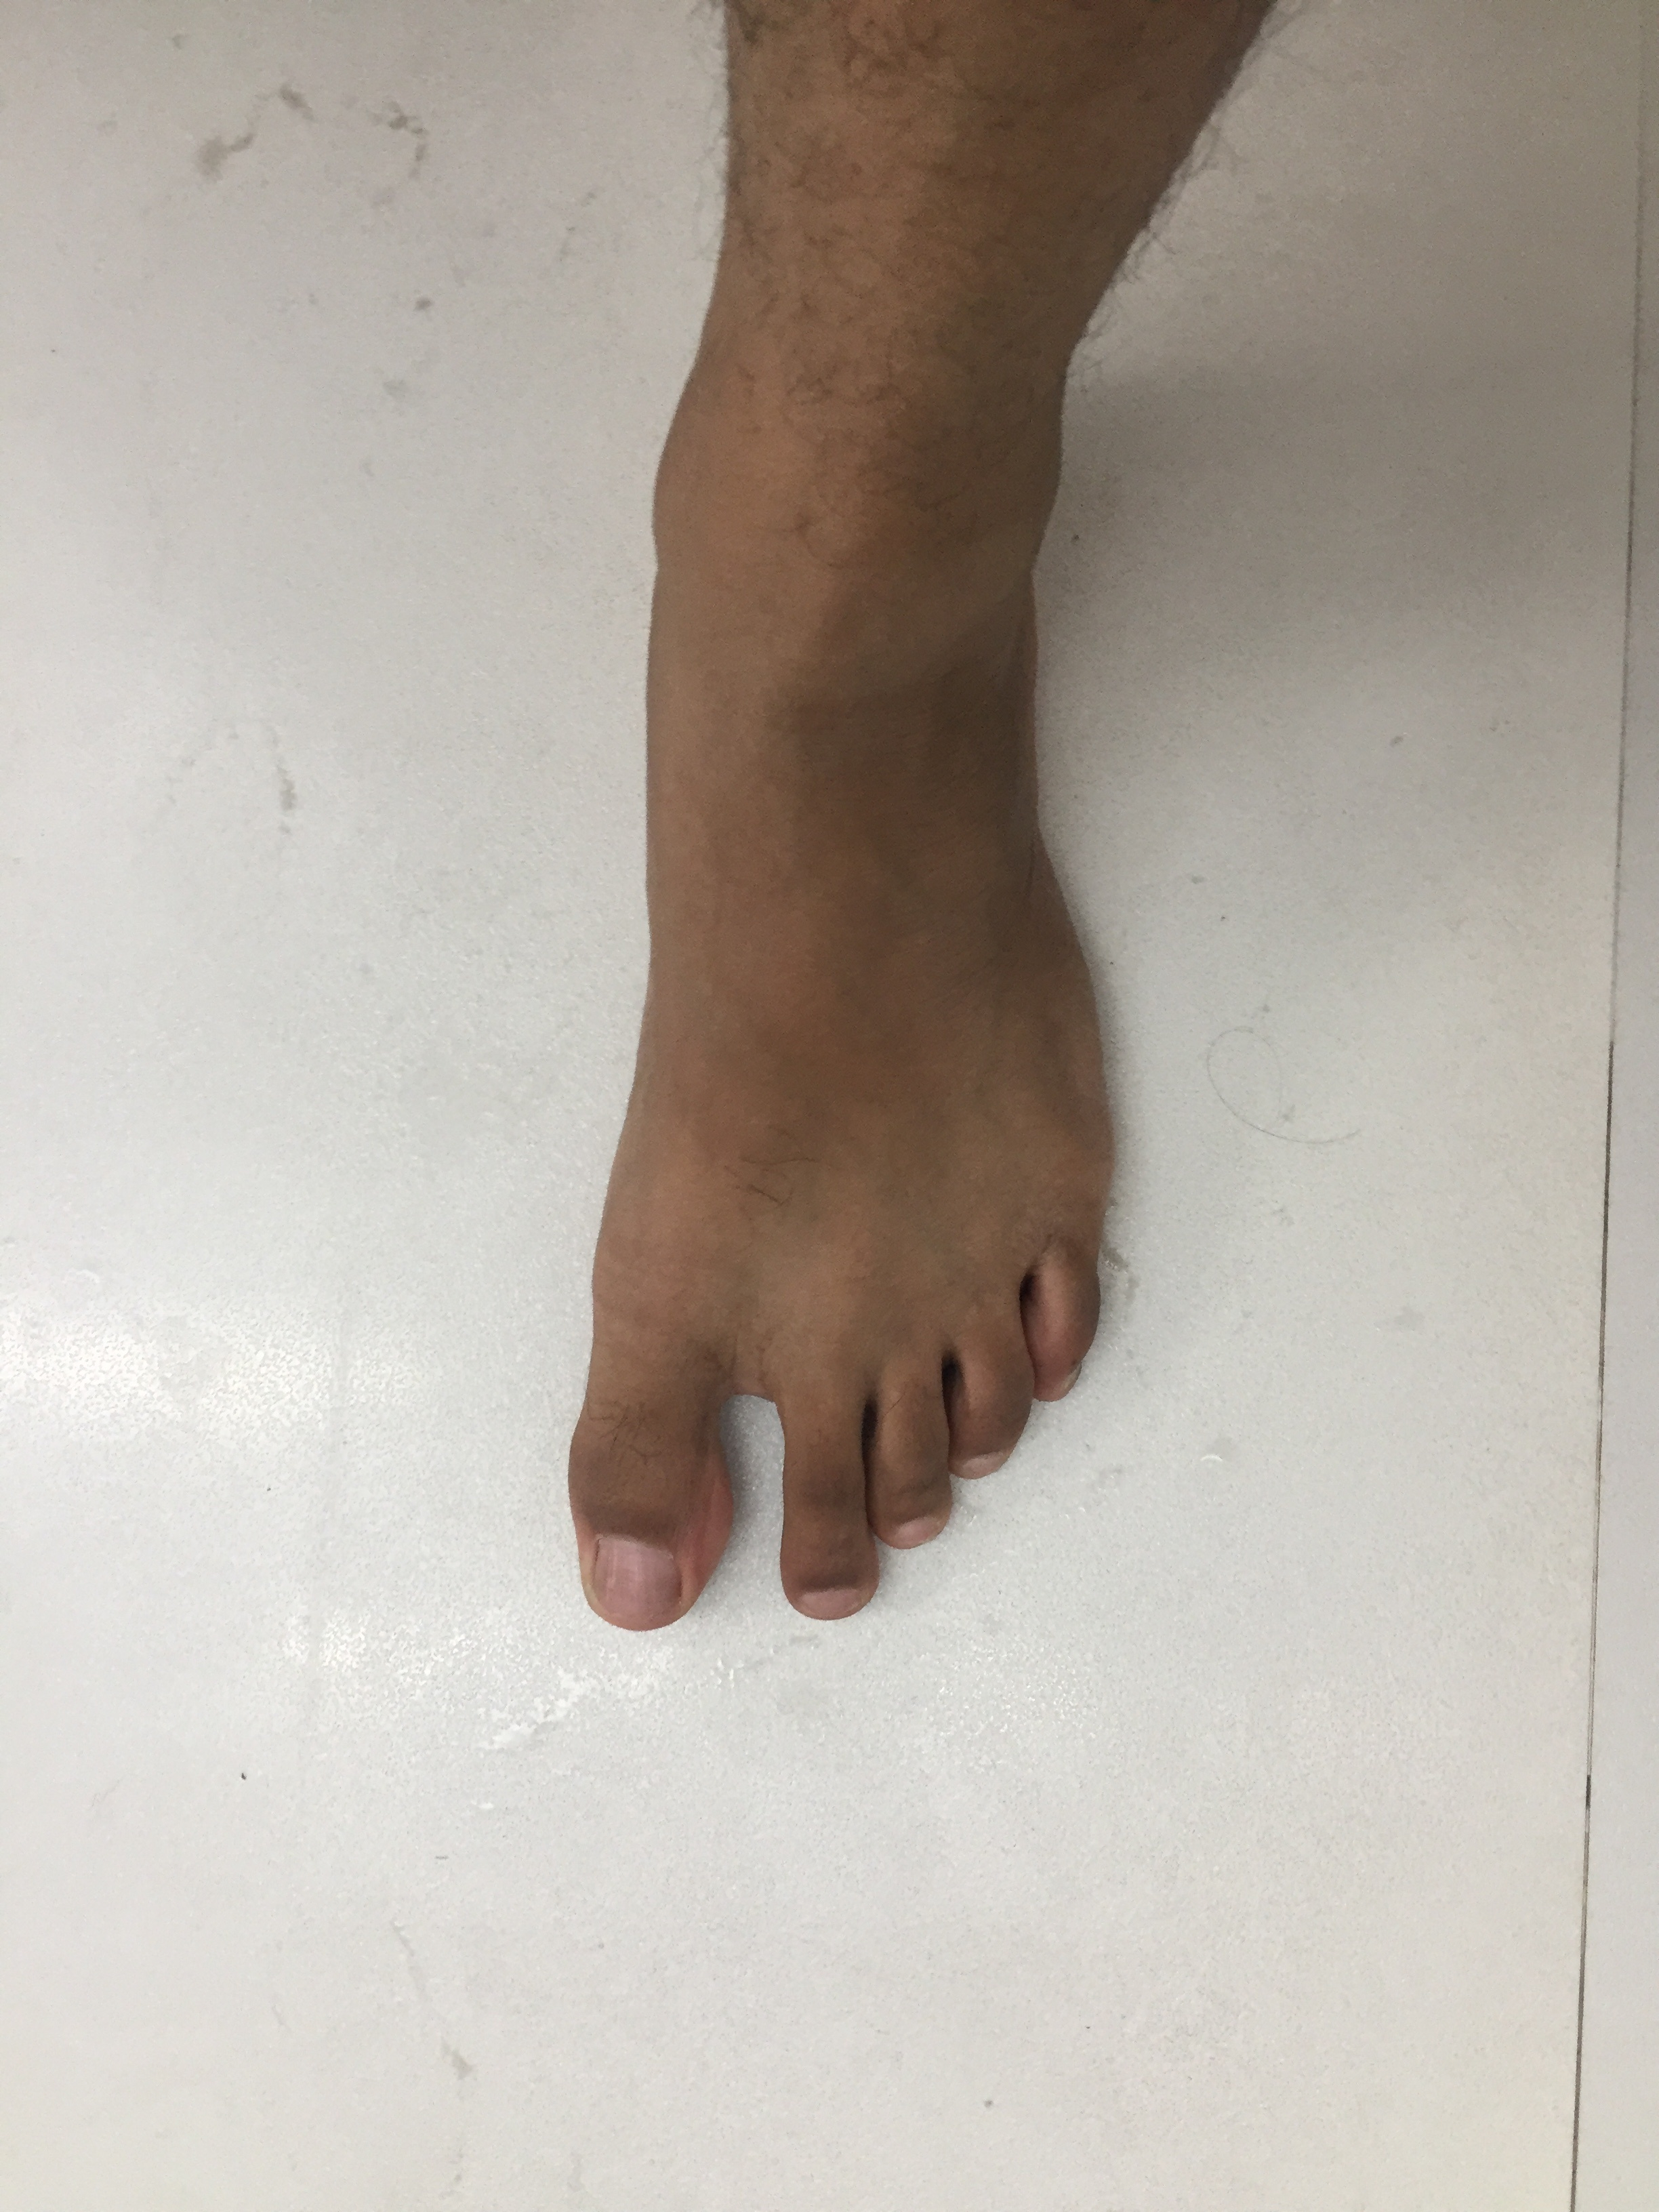feet: (404, 181, 1122, 1641)
